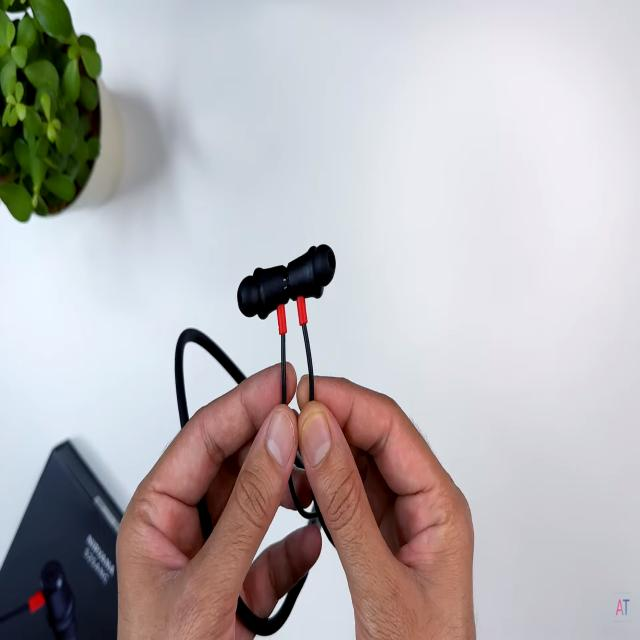Neckband: (174, 240, 336, 637)
